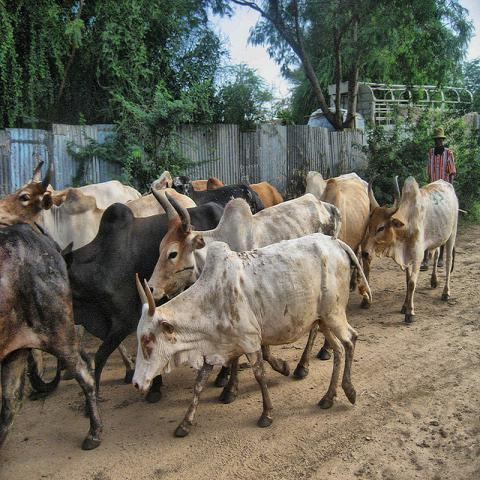truck: (307, 81, 474, 133)
